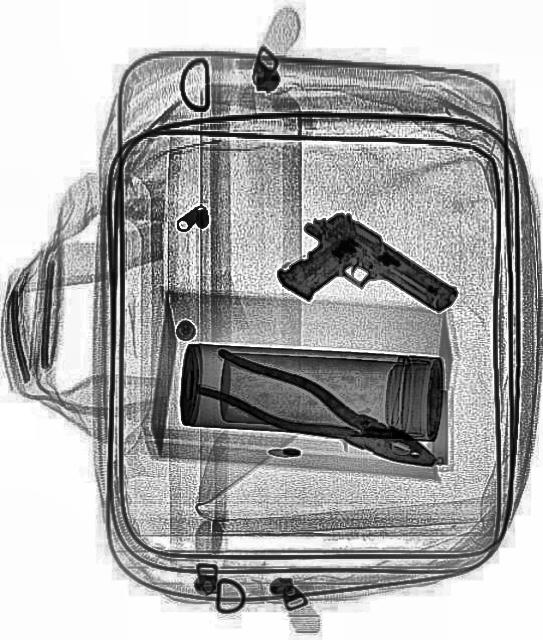Gun: (271, 194, 458, 372)
Pliers: (191, 337, 444, 489)
